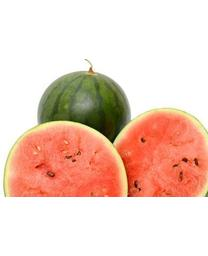watermelon: (2, 109, 207, 198), (36, 73, 134, 153)
